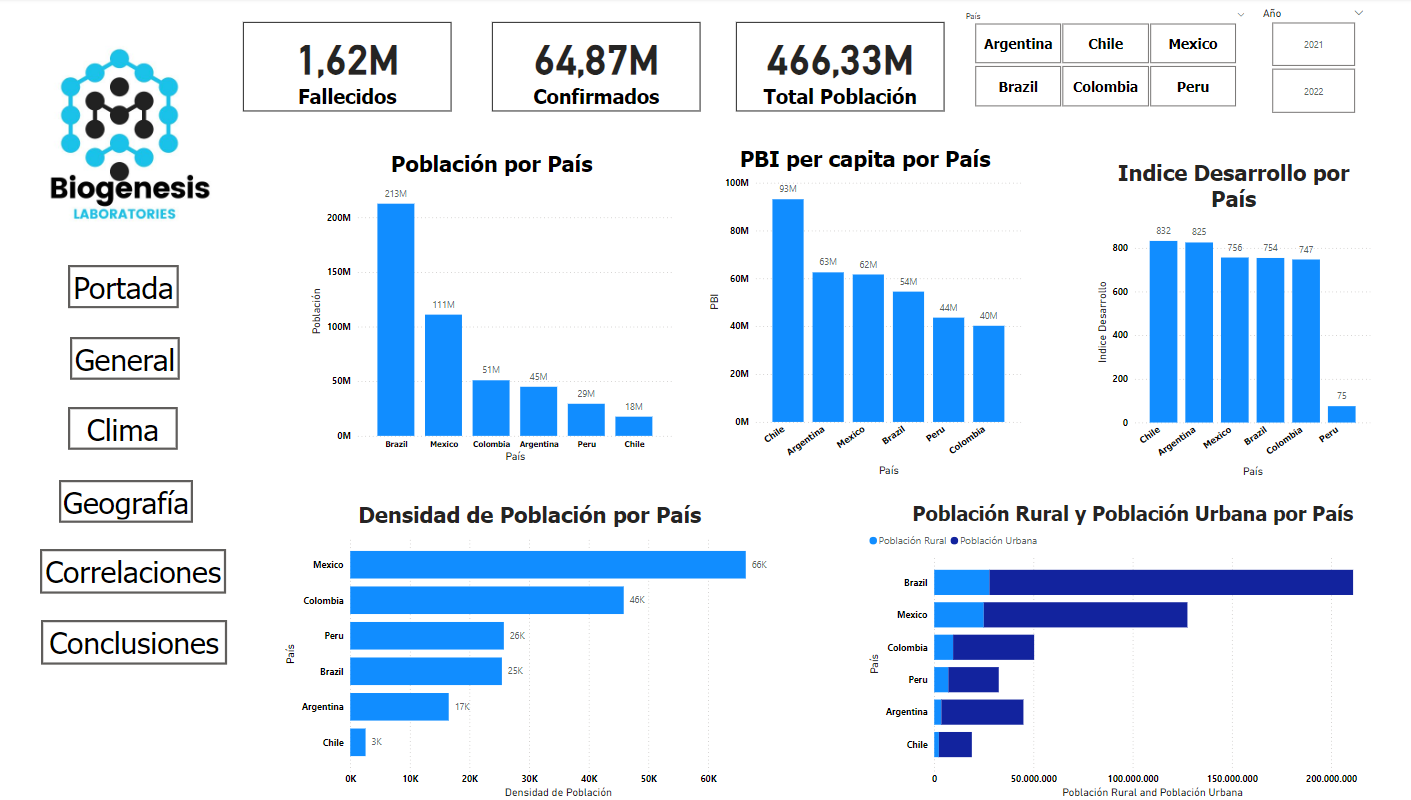

The dashboard page shown, as its layout file describes it:
{"tool":"powerbi","page":{"name":"Geografia","canvas":[1920,1080],"ordinal":3},"visuals":[{"type":"card","fields":{"Values":["DatosFinalesFiltrado.Total Población"]},"box":[1002,32,280,120],"z":0},{"type":"card","fields":{"Values":["DatosFinalesFiltrado.Fallecidos"]},"box":[340,32,280,120],"z":1000},{"type":"card","fields":{"Values":["DatosFinalesFiltrado.total_cum_conf"]},"box":[674,32,280,120],"z":2000},{"type":"clusteredColumnChart","title":"Población por País","fields":{"Category":["DatosFinalesFiltrado.country_name"],"Y":["Max(DatosFinalesFiltrado.population_correct)"]},"box":[426,204,496,424],"z":3000},{"type":"barChart","title":"Población Rural y Población Urbana por País","fields":{"Category":["DatosFinalesFiltrado.country_name"],"Y":["Max(DatosFinalesFiltrado.pop_rural_correct)","Max(DatosFinalesFiltrado.pop_urban_correct)"]},"box":[1175.6,675.6,719.5,404.9],"z":4000},{"type":"clusteredBarChart","title":"Densidad de Población por País","fields":{"Category":["DatosFinalesFiltrado.country_name"],"Y":["Max(DatosFinalesFiltrado.population_density)"]},"box":[390.2,675.6,668.3,404.9],"z":5000},{"type":"columnChart","title":"Indice Desarrollo por País","fields":{"Category":["DatosFinalesFiltrado.country_name"],"Y":["Max(DatosFinalesFiltrado.human_development_index)"]},"box":[1482,216,378,432],"z":6000},{"type":"columnChart","title":"PBI per capita por País","fields":{"Category":["DatosFinalesFiltrado.country_name"],"Y":["Sum(DatosFinalesFiltrado.gdp_per_capita_usd)"]},"box":[960,198,430,450],"z":7000},{"type":"actionButton","box":[104.7,358.1,148.8,58.1],"z":8000},{"type":"actionButton","box":[107.5,455,147.5,57.5],"z":9000},{"type":"actionButton","box":[105,550,147.5,57.5],"z":10000},{"type":"actionButton","box":[92.5,647.5,180,57.5],"z":11000},{"type":"actionButton","box":[67.5,740,250,60],"z":12000},{"type":"slicer","fields":{"Values":["DatosFinalesFiltrado.date.Variation.Date Hierarchy.Year"]},"box":[1697.2,8.3,161.1,152.8],"z":13000},{"type":"slicer","fields":{"Values":["DatosFinalesFiltrado.country_name"]},"box":[1297.2,13.9,400,138.9],"z":14000},{"type":"image","box":[22.2,40,315.6,315.6],"z":15000},{"type":"actionButton","box":[68.3,835,250,60],"z":16000}]}

Visuals, with their boxes in screenshot pixels (x1, y1, x2, y2), scaled from the page's 1920x1080 canvas onto the 1411x800 screenshot:
card - DatosFinalesFiltrado.Total Población: <box>736,24,942,113</box>
card - DatosFinalesFiltrado.Fallecidos: <box>250,24,456,113</box>
card - DatosFinalesFiltrado.total_cum_conf: <box>495,24,701,113</box>
"Población por País" clusteredColumnChart: <box>313,151,678,465</box>
"Población Rural y Población Urbana por País" barChart: <box>864,500,1393,799</box>
"Densidad de Población por País" clusteredBarChart: <box>287,500,778,799</box>
"Indice Desarrollo por País" columnChart: <box>1089,160,1367,480</box>
"PBI per capita por País" columnChart: <box>706,147,1022,480</box>
actionButton: <box>77,265,186,308</box>
actionButton: <box>79,337,187,380</box>
actionButton: <box>77,407,186,450</box>
actionButton: <box>68,480,200,522</box>
actionButton: <box>50,548,233,593</box>
slicer - DatosFinalesFiltrado.date.Variation.Date Hierarchy.Year: <box>1247,6,1366,119</box>
slicer - DatosFinalesFiltrado.country_name: <box>953,10,1247,113</box>
image: <box>16,30,248,263</box>
actionButton: <box>50,619,234,663</box>
